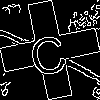C: (25, 25, 70, 78)
